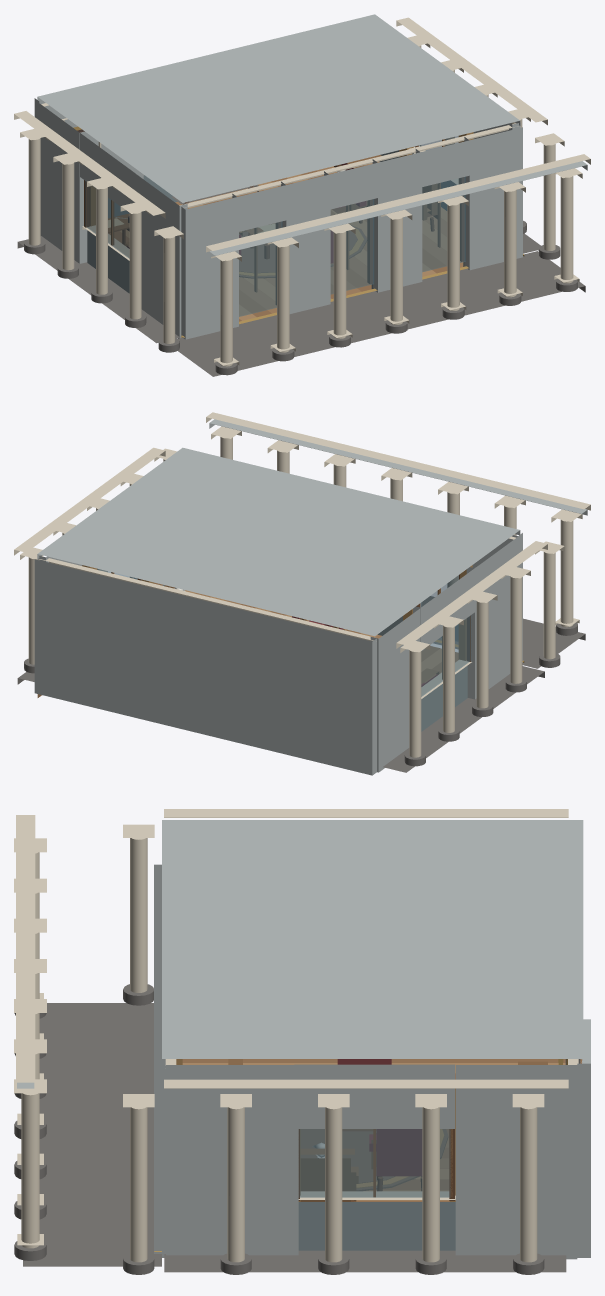
The model's file is saloon-prototype.glb.
The picture shows the model from 3 angles, top to bottom: view 1: azimuth 30°, elevation 25°; view 2: azimuth 150°, elevation 25°; view 3: azimuth 270°, elevation 25°; orthographic projection. The views are drawn at different scales.
Visible parts, largest first — view 1: ceiling, lake loggia floor, lake wall pier 0, lake wall pier last, lake wall pier 1, lake wall pier 2, side wall lower rear -1, side wall lower front -1, lake window glass 0, loggia front entablature, lake window glass 1, lake window glass 2 (+27 smaller); view 2: ceiling, rear wall, side wall lower rear -1, side wall lower front -1, loggia front entablature, loggia front fascia, side loggia return -1, side gallery entablature 1, side gallery entablature -1, side window glass -1, rear cornice, side window header -1 (+9 smaller); view 3: ceiling, lake loggia floor, side wall lower front 1, side wall lower rear 1, side window glass 1, side window header 1, side dado 1, side loggia return 1, loggia front entablature, side gallery entablature 1, side gallery entablature -1, rear wall (+13 smaller).
Part boxes in pixels (x1,y1,x2,y2): ceiling: (37,14,520,202); lake loggia floor: (178,251,585,376); lake wall pier 0: (181,196,238,339); lake wall pier last: (464,127,522,270); lake wall pier 1: (281,174,330,313); lake wall pier 2: (372,152,422,292); side wall lower rear -1: (37,102,87,263); side wall lower front -1: (134,173,187,338); lake window glass 0: (239,221,282,316); loggia front entablature: (206,154,590,252); lake window glass 1: (330,199,374,294); lake window glass 2: (422,176,465,271); ceiling: (37,447,520,636); rear wall: (34,559,376,775); side wall lower rear -1: (370,608,420,772); side wall lower front -1: (466,535,520,699); loggia front entablature: (206,412,590,510); loggia front fascia: (209,419,587,515); side loggia return -1: (383,666,544,772); side gallery entablature 1: (14,447,165,555); side gallery entablature -1: (396,541,547,648); side window glass -1: (421,615,471,696); rear cornice: (38,558,373,640); side window header -1: (413,567,476,650); ceiling: (162,820,583,1058); lake loggia floor: (23,1003,161,1266); side wall lower front 1: (166,1065,298,1255); side wall lower rear 1: (455,1065,577,1259); side window glass 1: (299,1129,450,1197); side window header 1: (294,1064,454,1128); side dado 1: (298,1202,455,1250); side loggia return 1: (164,1250,566,1272); loggia front entablature: (16,815,35,1082); side gallery entablature 1: (164,1079,568,1088); side gallery entablature -1: (164,809,568,817); rear wall: (577,1019,590,1257).
Size of the model in its own units: 13.73 by 4.75 by 11.84.
